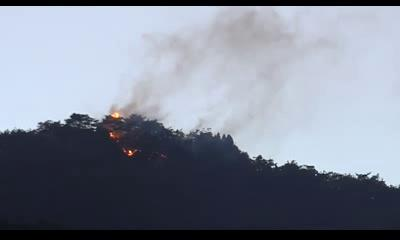fire: (112, 113, 121, 138)
smoke: (145, 33, 286, 77)
